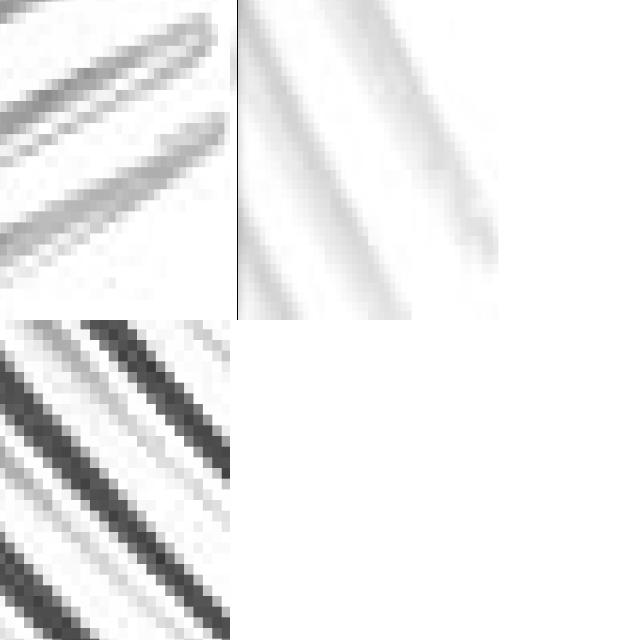forks: (230, 0, 617, 243), (0, 0, 230, 320), (0, 320, 230, 640)
